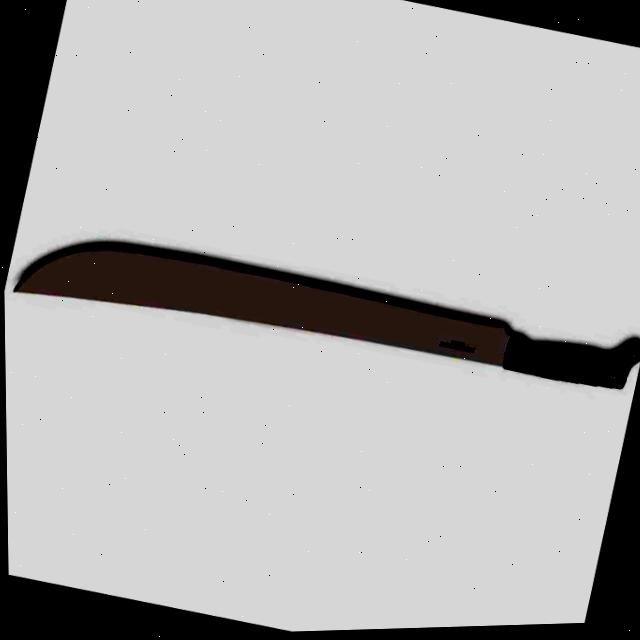long knife: (14, 182, 640, 438)
